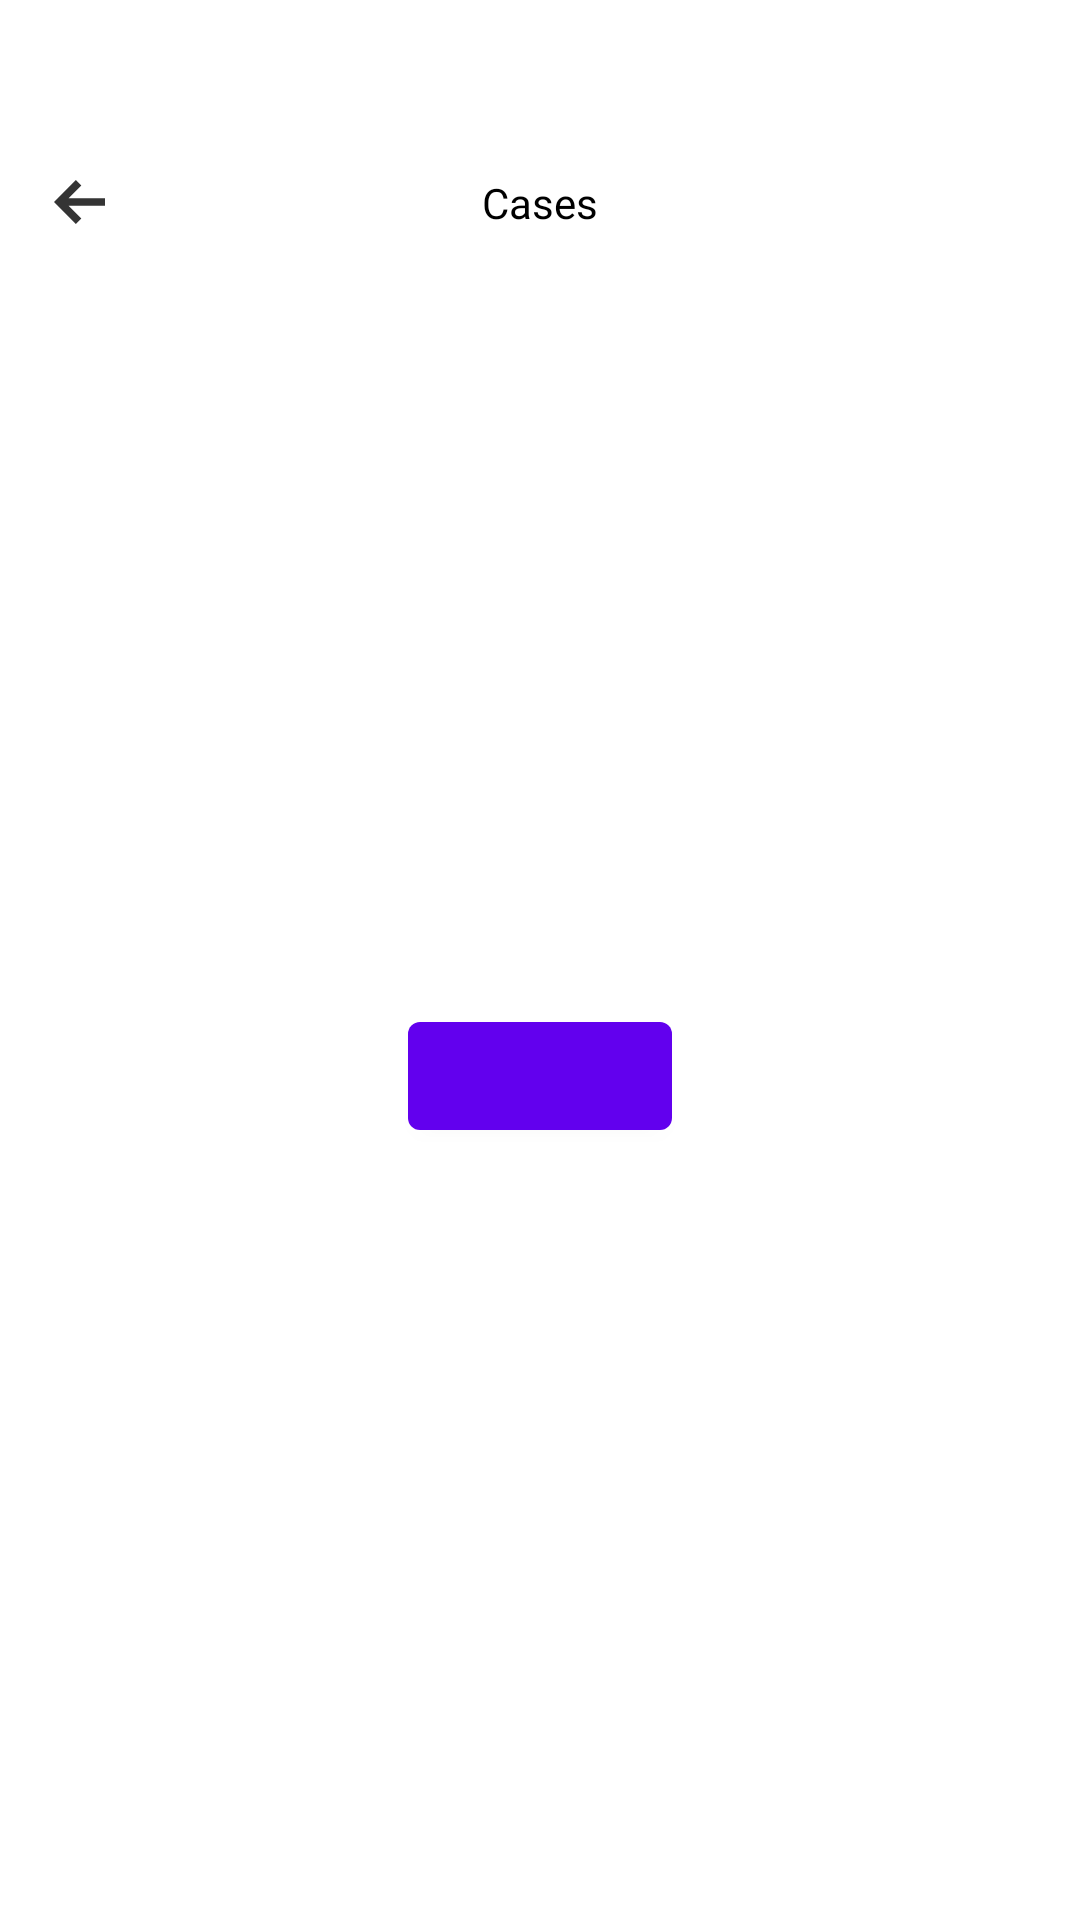

Where to tap for icons on this 1080 x 1920 app screen, as [x,y]:
left arrow: [79,202]
